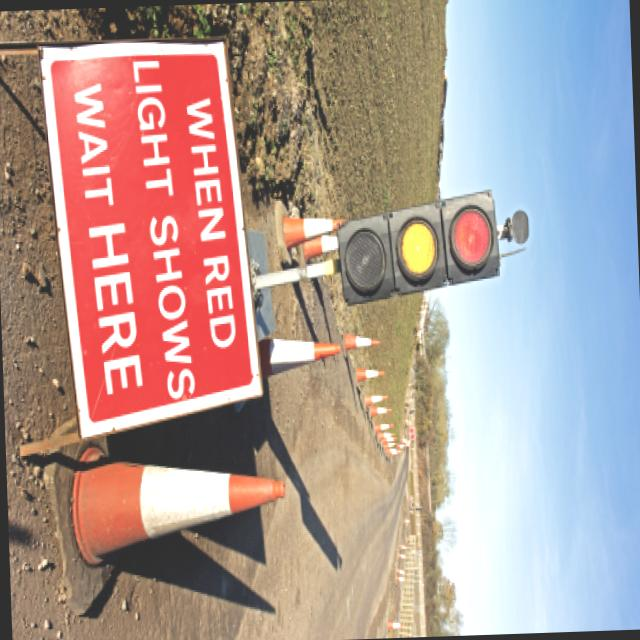cone: (33, 418, 294, 585), (248, 316, 342, 399), (338, 324, 382, 358), (348, 365, 392, 386), (362, 390, 395, 407)
